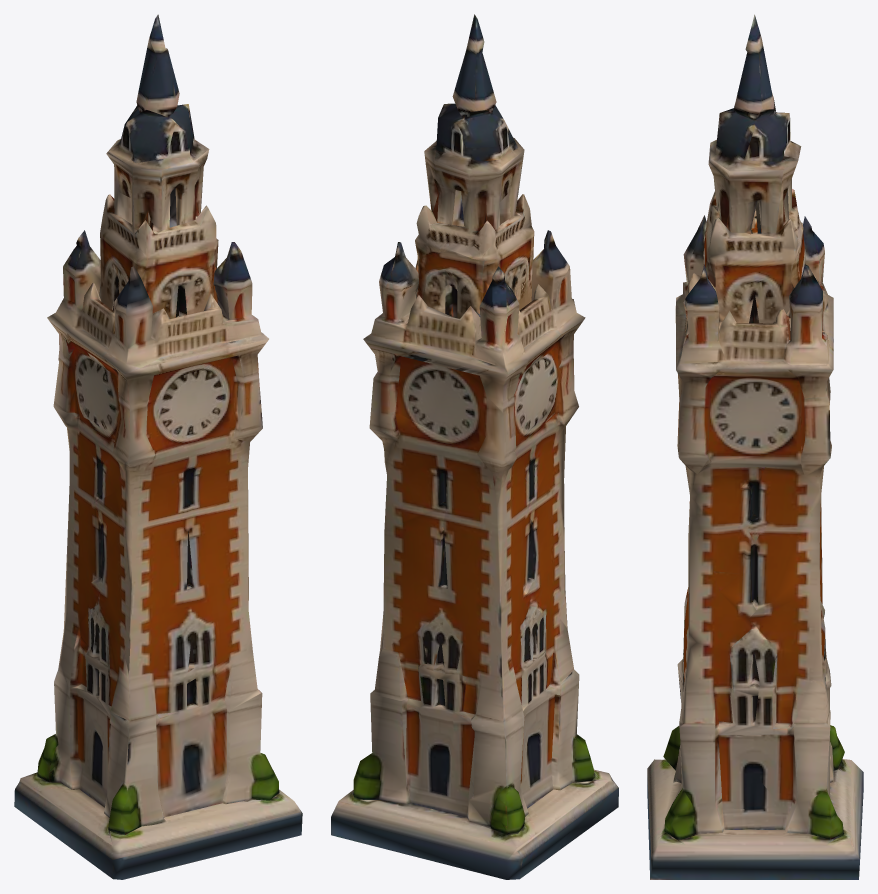
The model's file is lille-belfry.lod.glb.
The picture shows the model from 3 angles, left to right: view 1: azimuth 30°, elevation 25°; view 2: azimuth 150°, elevation 25°; view 3: azimuth 270°, elevation 25°; orthographic projection.
Visible parts, largest first — view 1: textured_mesh.obj; view 2: textured_mesh.obj; view 3: textured_mesh.obj.
Boxes of the visible parts, <box> form: textured_mesh.obj: <box>14,14,302,879</box>; textured_mesh.obj: <box>331,14,618,879</box>; textured_mesh.obj: <box>647,14,863,879</box>.
Size of the model in its own units: 0.2472 by 0.9986 by 0.2389.
1 material, 1 textured.
